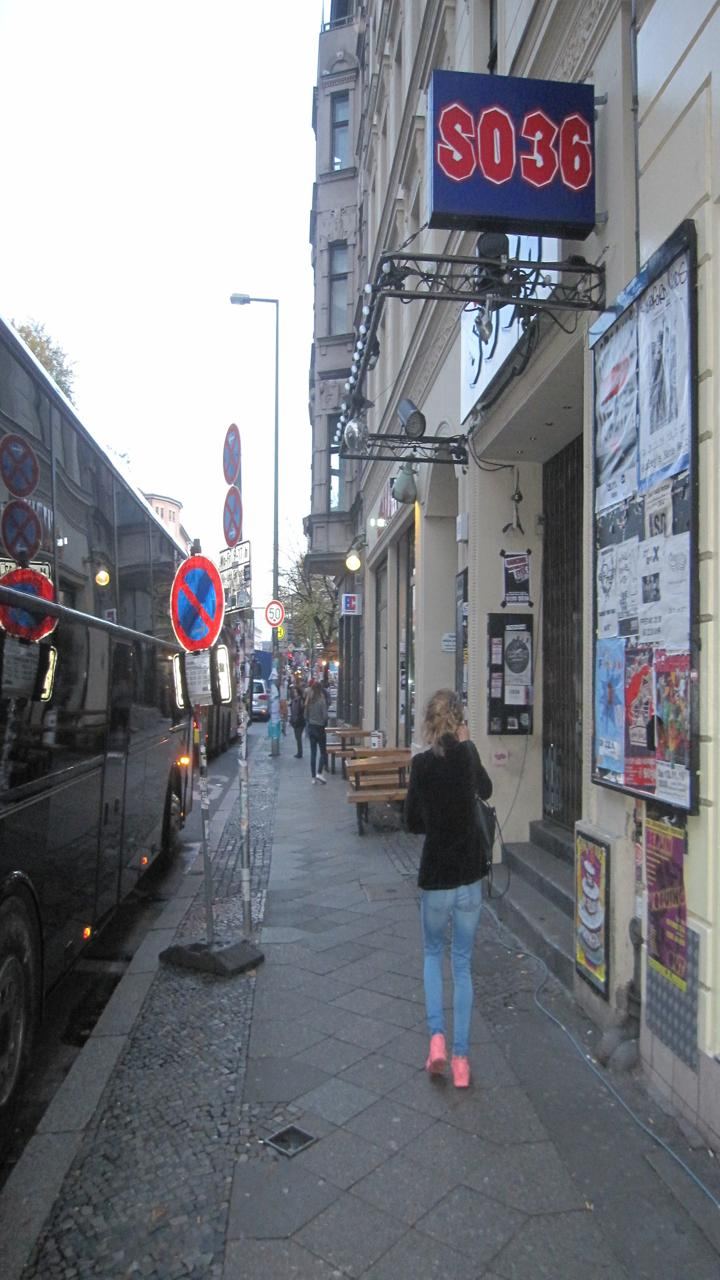Traffic sign: (130, 533, 235, 671)
pedestrian: (390, 664, 519, 1107)
